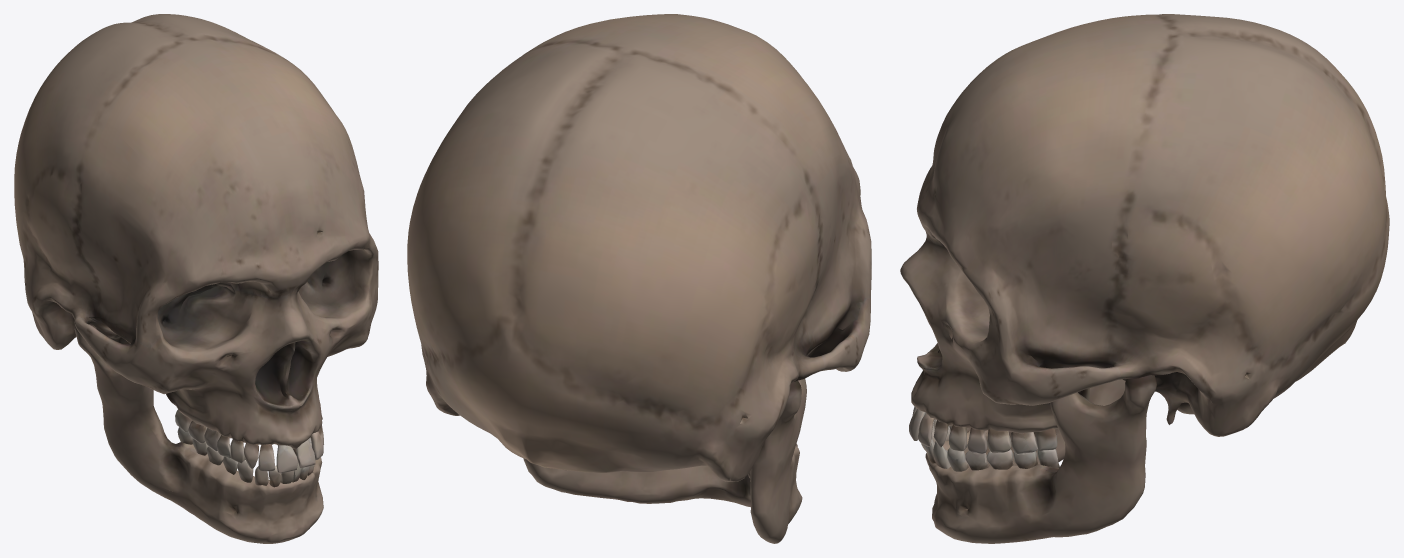
File: skull-transformed.glb
3 renders of one model, left to right at view 1: azimuth 30°, elevation 25°; view 2: azimuth 150°, elevation 25°; view 3: azimuth 270°, elevation 25°, orthographic. The views are drawn at different scales.
Visible parts, largest first — view 1: Object_2; view 2: Object_2; view 3: Object_2.
Boxes of the visible parts, x1,y1,x2,y2 form: Object_2: (14,14,378,543); Object_2: (407,14,871,543); Object_2: (900,14,1389,543).
Size of the model in its own units: 1.34 by 2 by 1.79.
Materials: 1 (1 with a texture image).
